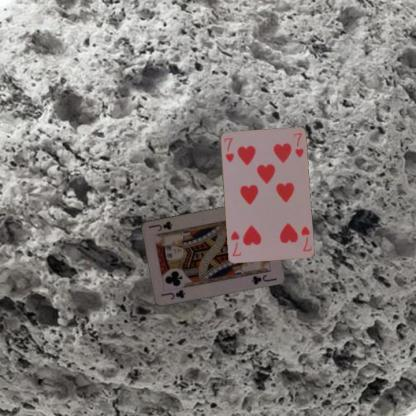7h: (298, 223, 312, 253), (221, 135, 235, 163)
Jc: (158, 287, 186, 301)
